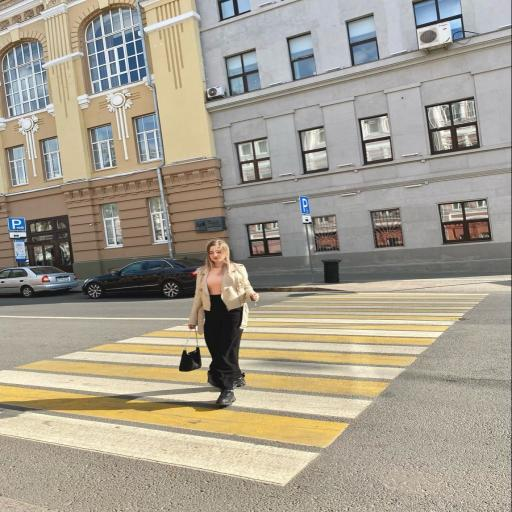book: (82, 259, 202, 299), (0, 266, 78, 298)
chair: (0, 288, 493, 512)
crosswalk: (188, 239, 259, 407)
door: (179, 328, 202, 372)
